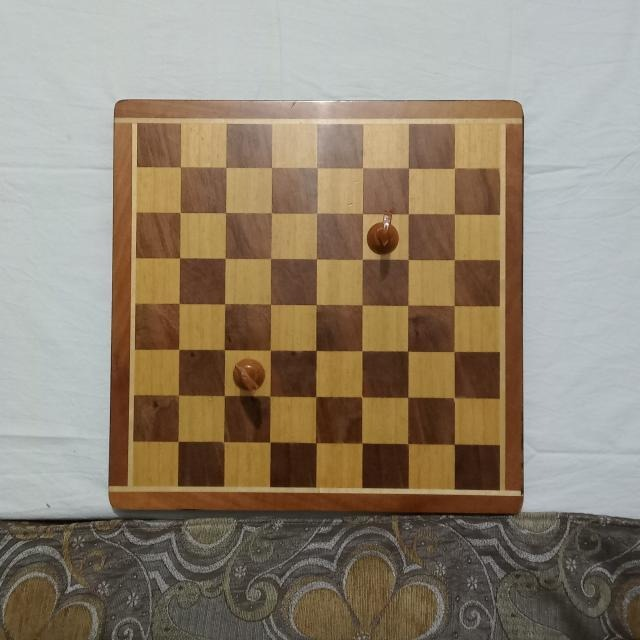white-knight: (365, 208, 400, 255), (230, 358, 265, 394)
